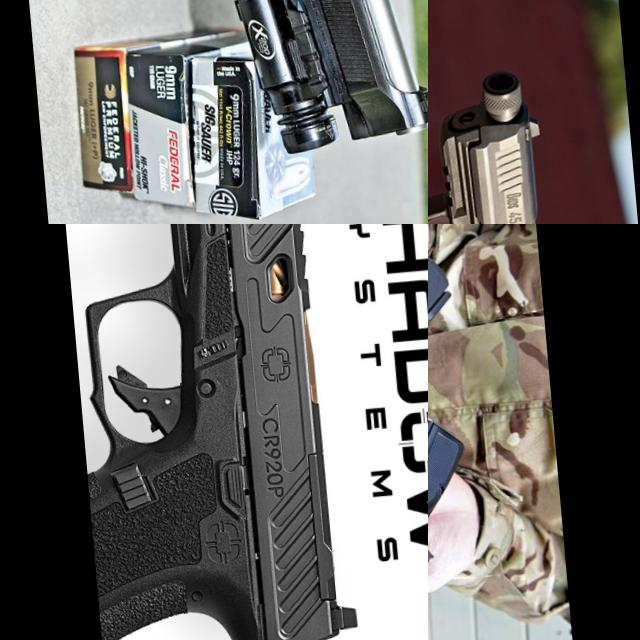handgun: (52, 224, 364, 640), (43, 0, 428, 224), (428, 409, 593, 624), (428, 61, 566, 224), (428, 224, 591, 350)
